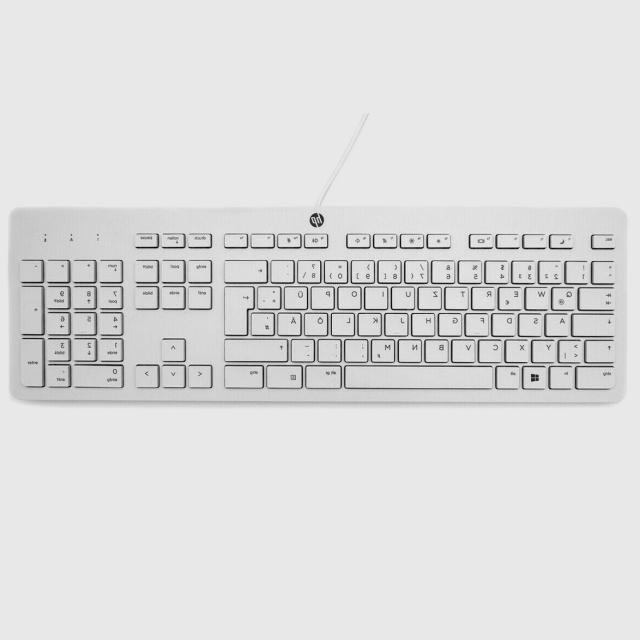0: (326, 258, 351, 282)
1: (567, 259, 591, 283)
2: (540, 258, 565, 282)
3: (513, 259, 539, 283)
4: (487, 259, 511, 283)
5: (460, 259, 485, 283)
6: (433, 259, 458, 283)
7: (407, 258, 431, 282)
8: (380, 258, 404, 282)
9: (352, 258, 377, 282)
a: (548, 311, 572, 335)
accent: (273, 258, 297, 282)
ae: (279, 310, 304, 335)
alt-left: (498, 364, 523, 388)
altgr-right: (307, 363, 345, 388)
b: (427, 337, 452, 361)
c: (480, 338, 505, 362)
caret: (594, 260, 618, 282)
comma: (347, 337, 371, 361)
d: (494, 311, 518, 335)
del: (226, 257, 270, 281)
e: (500, 285, 525, 309)
enter: (224, 283, 256, 335)
f: (467, 311, 492, 335)
g: (441, 311, 465, 335)
h: (414, 311, 438, 335)
hash: (253, 310, 277, 334)
i: (367, 284, 391, 308)
j: (387, 311, 411, 335)
k: (360, 311, 384, 335)
keyboard: (9, 208, 629, 405)
l: (334, 310, 358, 335)
less: (561, 337, 586, 361)
m: (373, 337, 398, 361)
minus: (293, 337, 317, 361)
n: (400, 337, 425, 361)
o: (340, 284, 364, 309)
oe: (306, 310, 331, 335)
p: (313, 284, 337, 308)
plus: (260, 284, 284, 308)
point: (320, 337, 344, 361)
q: (553, 285, 579, 309)
r: (474, 285, 498, 309)
s: (520, 311, 545, 335)
shift-left: (588, 337, 618, 361)
shift-lock: (574, 311, 618, 335)
shift-right: (228, 336, 290, 360)
space: (347, 363, 497, 389)
ss: (300, 258, 325, 282)
strg-left: (578, 364, 619, 388)
strg-right: (225, 363, 267, 387)
t: (447, 285, 471, 309)
tab: (582, 285, 618, 309)
u: (393, 285, 417, 309)
ue: (287, 284, 311, 309)
v: (454, 337, 478, 361)
w: (528, 285, 552, 309)
x: (508, 337, 532, 361)
y: (534, 338, 558, 362)
z: (420, 285, 445, 309)
